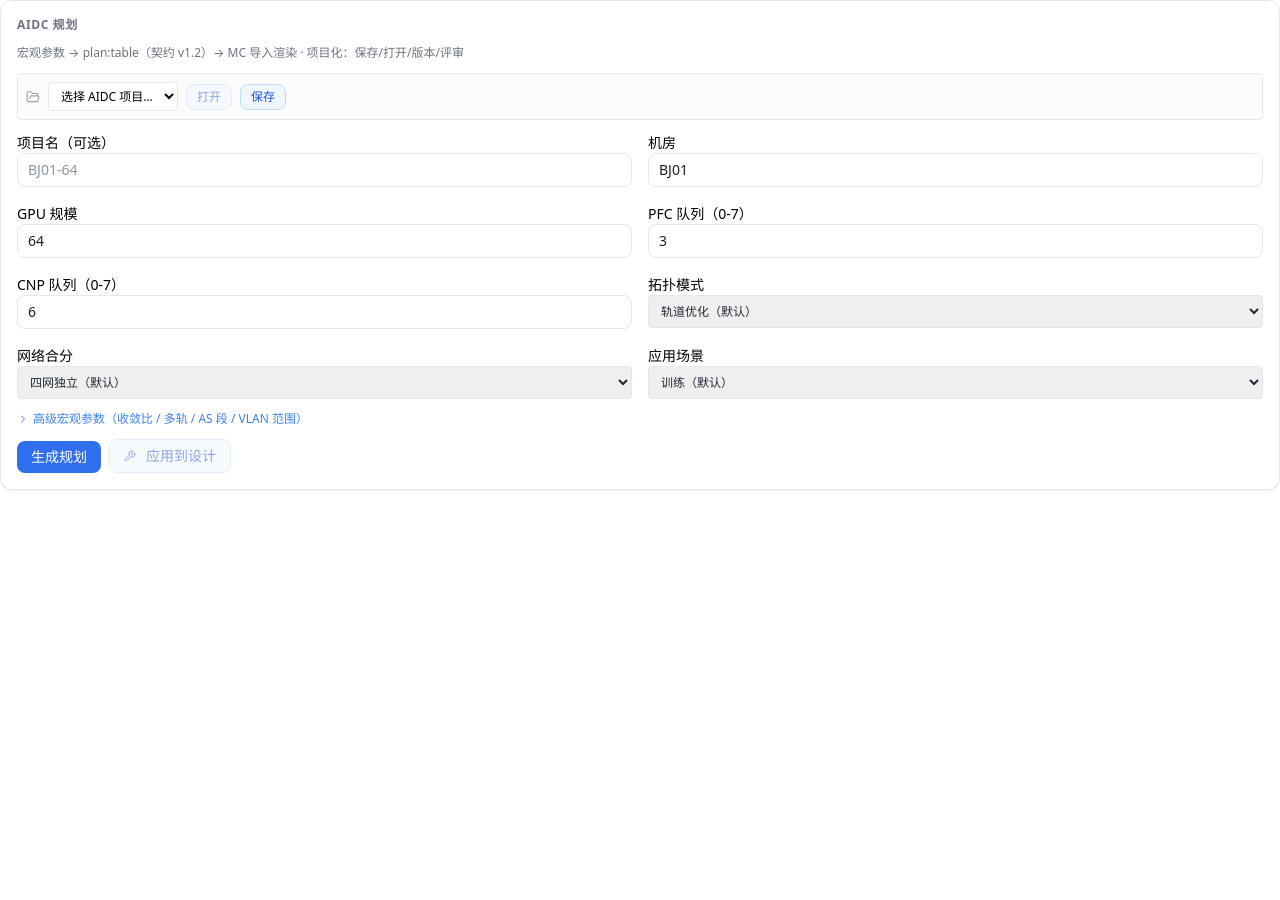
Test case: 5.2.1-521-b AIDC 完成标记 + 级联失效（5.5.2 A10 收敛后） › 未绑定项目生成规划正常出图，不写完成状态
The width and height of the screenshot is (1280, 900).
Click the button "生成规划". click: coordinates (59, 457)
box: [17,441,101,473]
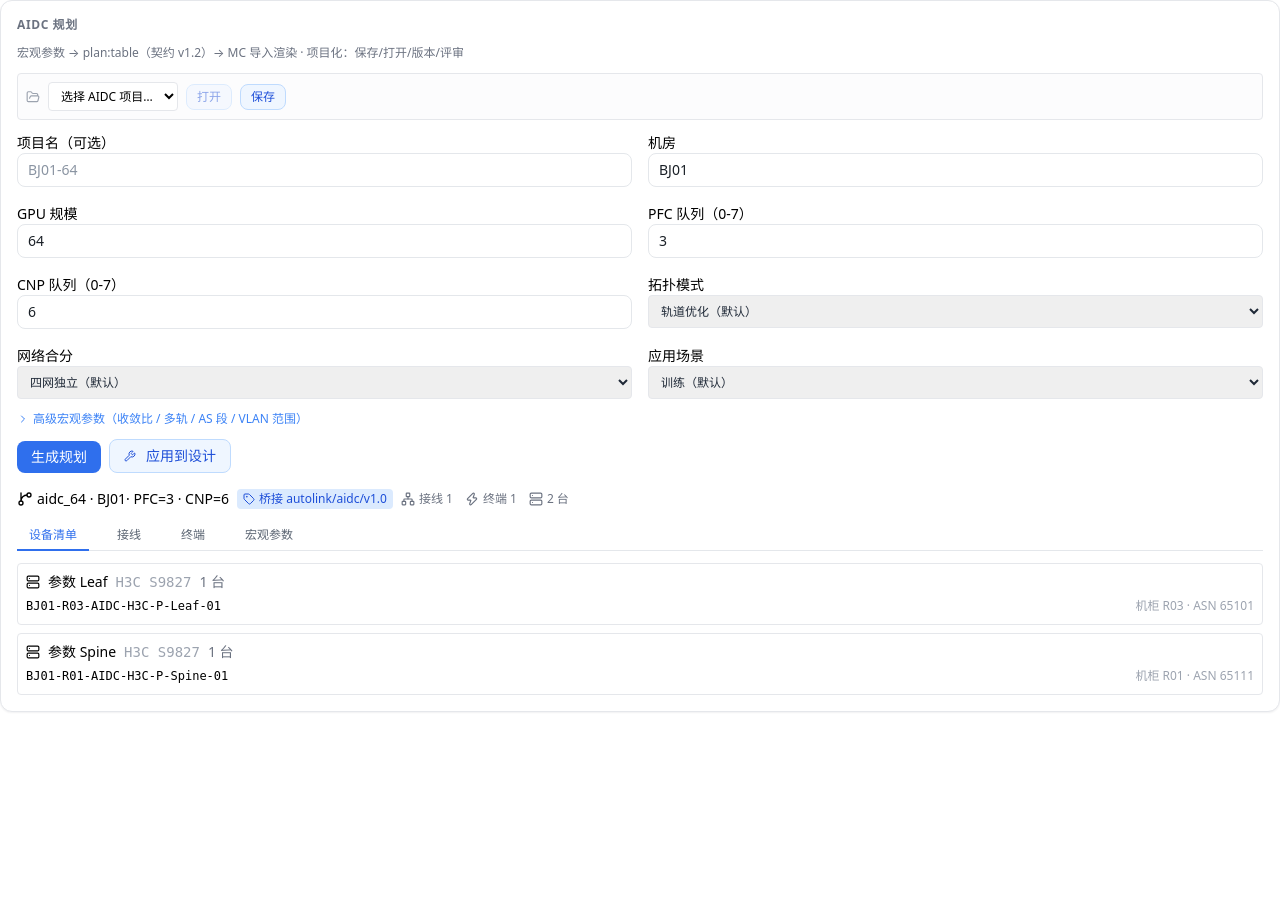
Expected: the text "aidc_64 · BJ01· PFC=3 · CNP=6" is shown, [17,489,229,509]
